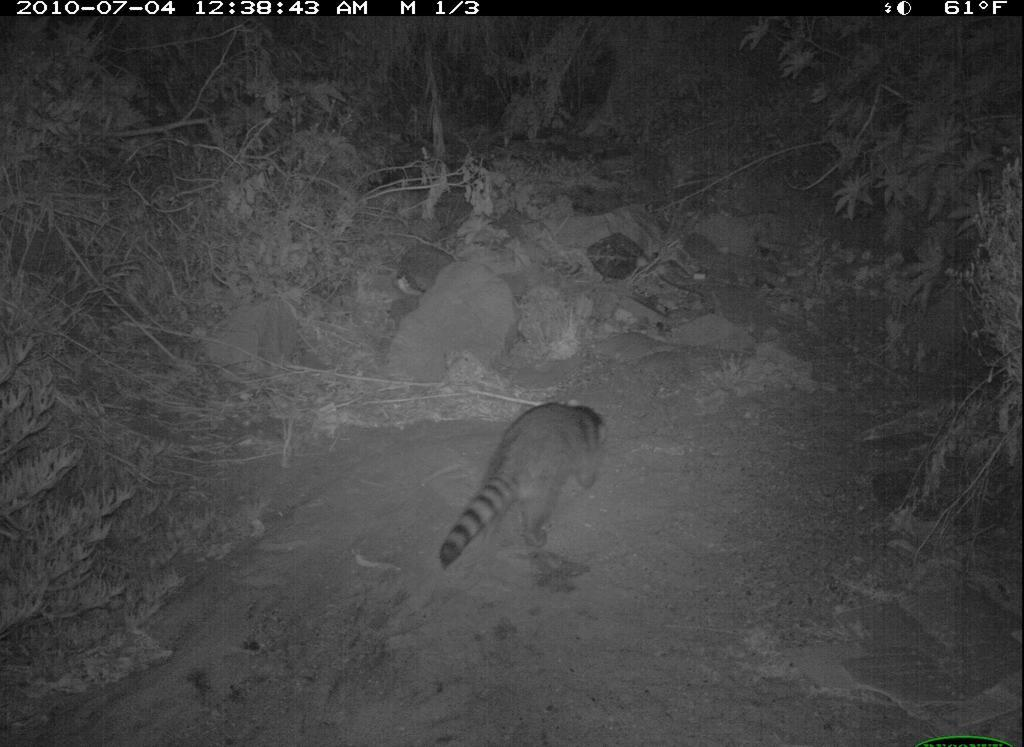raccoon: (437, 386, 629, 573)
